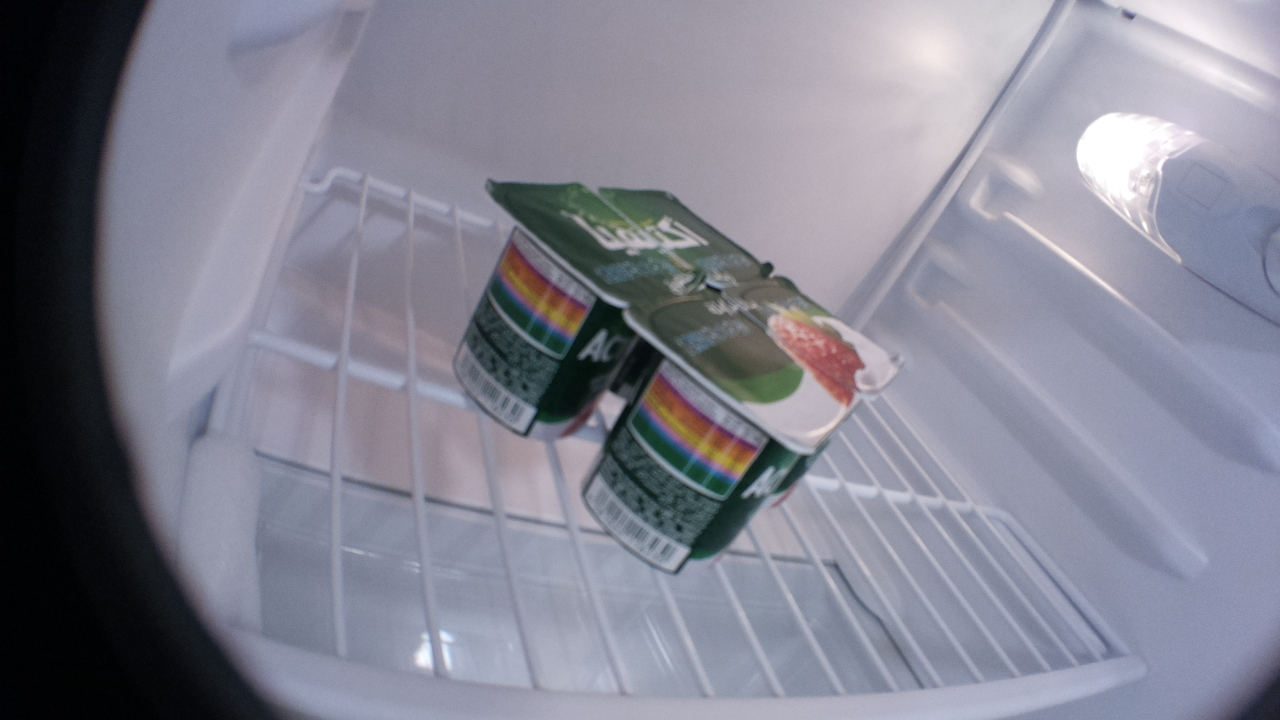yoghurt: (581, 287, 860, 578), (450, 178, 704, 441), (726, 275, 918, 401), (600, 180, 768, 283)
